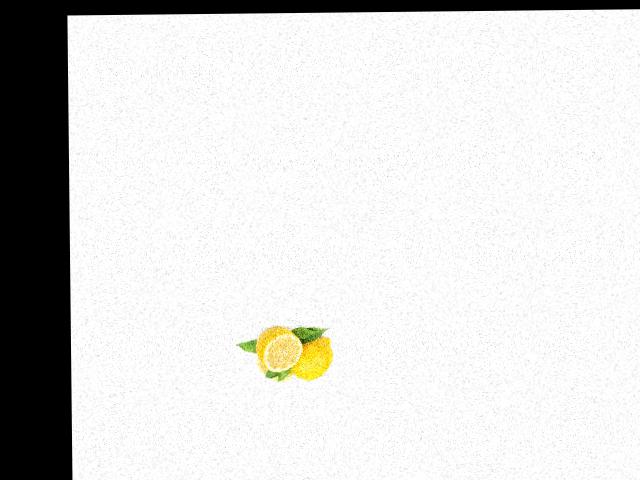lemon: (252, 322, 303, 372)
